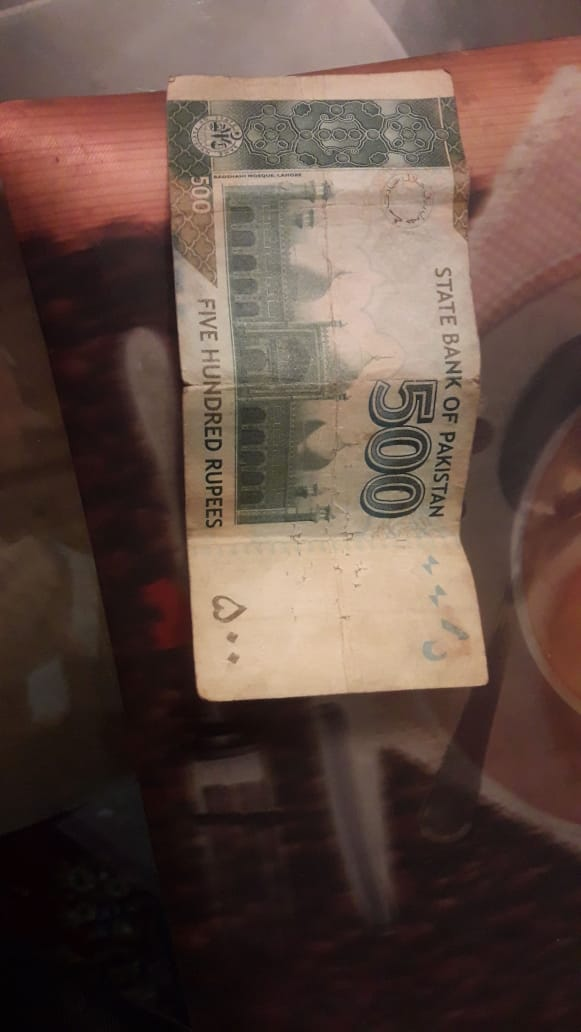500 rupee: (154, 64, 514, 729)
